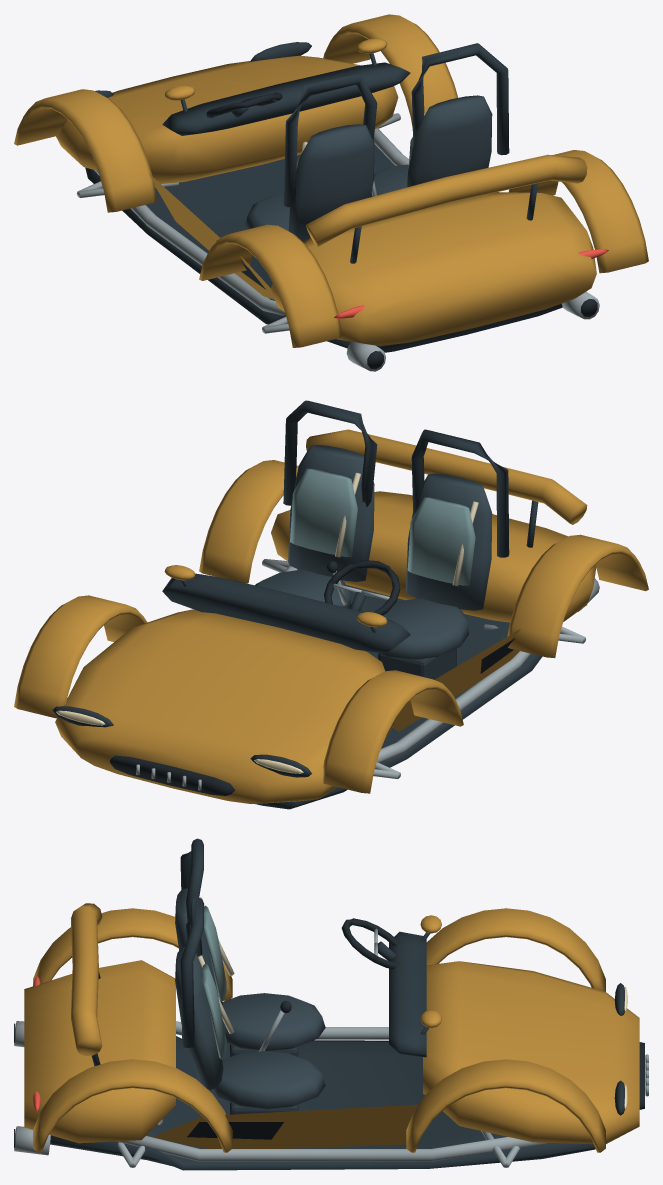
The model's file is VehicleSport.glb.
The picture shows the model from 3 angles, top to bottom: view 1: azimuth 30°, elevation 25°; view 2: azimuth 150°, elevation 25°; view 3: azimuth 270°, elevation 25°; orthographic projection.
Parts seen in each view (by area): view 1: VehicleSport; view 2: VehicleSport; view 3: VehicleSport.
Part boxes in pixels (left/top/right/bottom): VehicleSport: left=14, top=14, right=648, bottom=371; VehicleSport: left=14, top=400, right=648, bottom=809; VehicleSport: left=14, top=838, right=648, bottom=1170.
Bounding box in the file's own units: 2.3 × 1.4 × 3.52.
